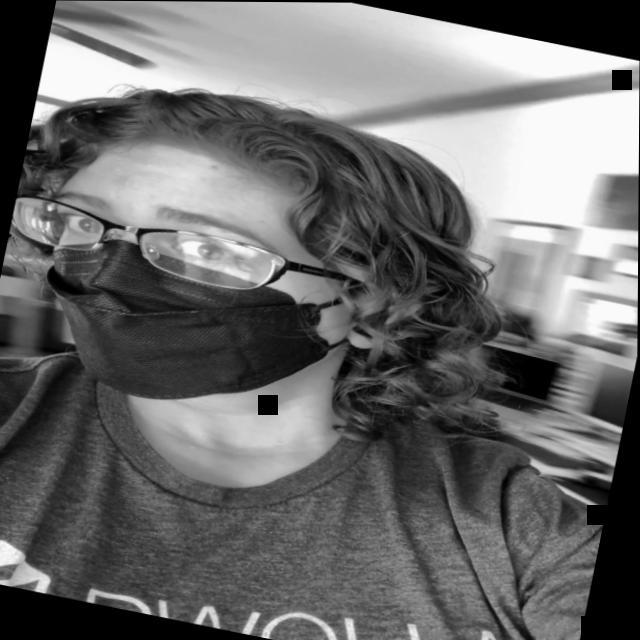Mask: (13, 122, 379, 436)
